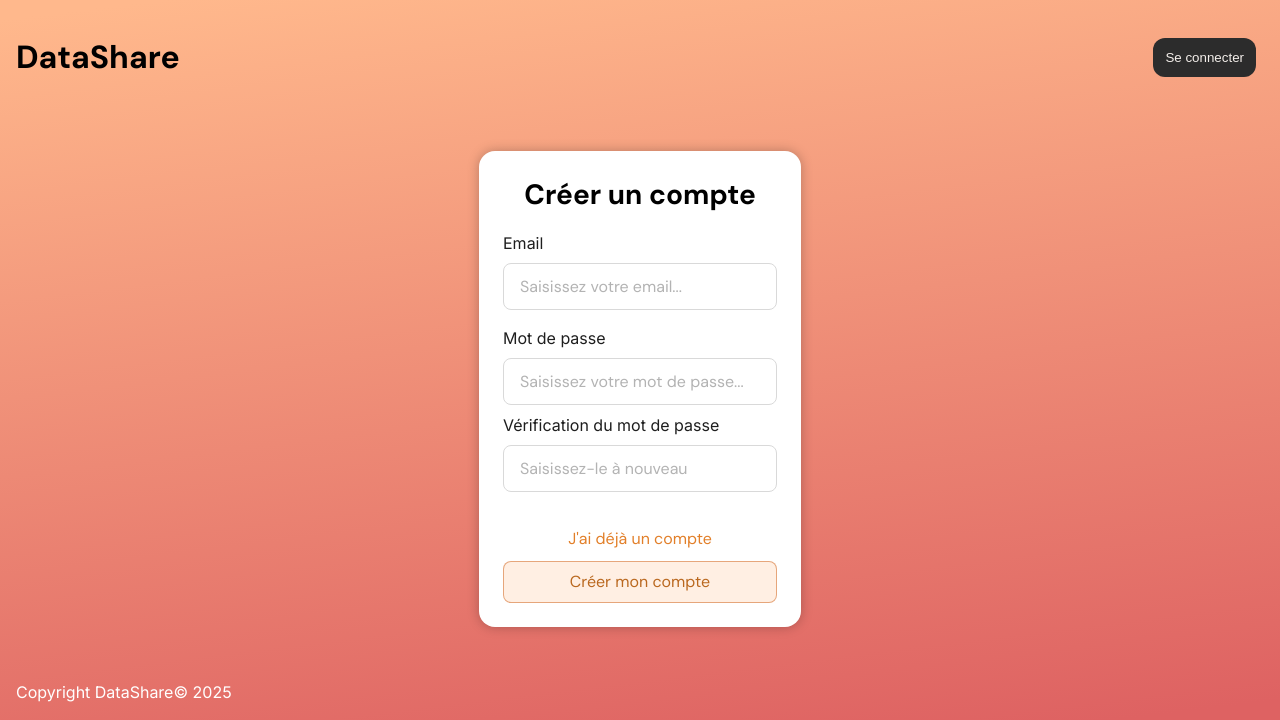
Register tests › Register new user with wrong datas should display an error
The image size is (1280, 720).
Step 1. Type "bad-email" into the field with test id "register-input-email" → (640,287), box [503, 263, 777, 310]
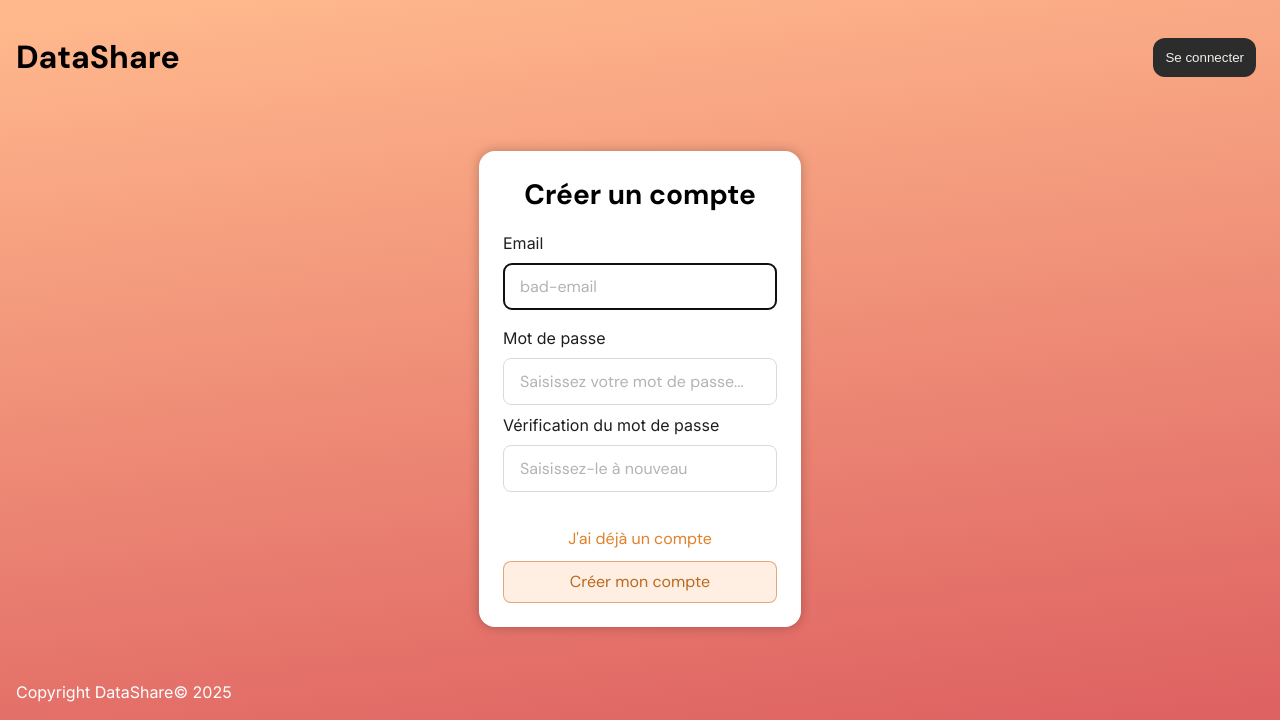
Step 2. Type "short" into the password field with test id "register-input-password" → (640,382), box [503, 358, 777, 405]
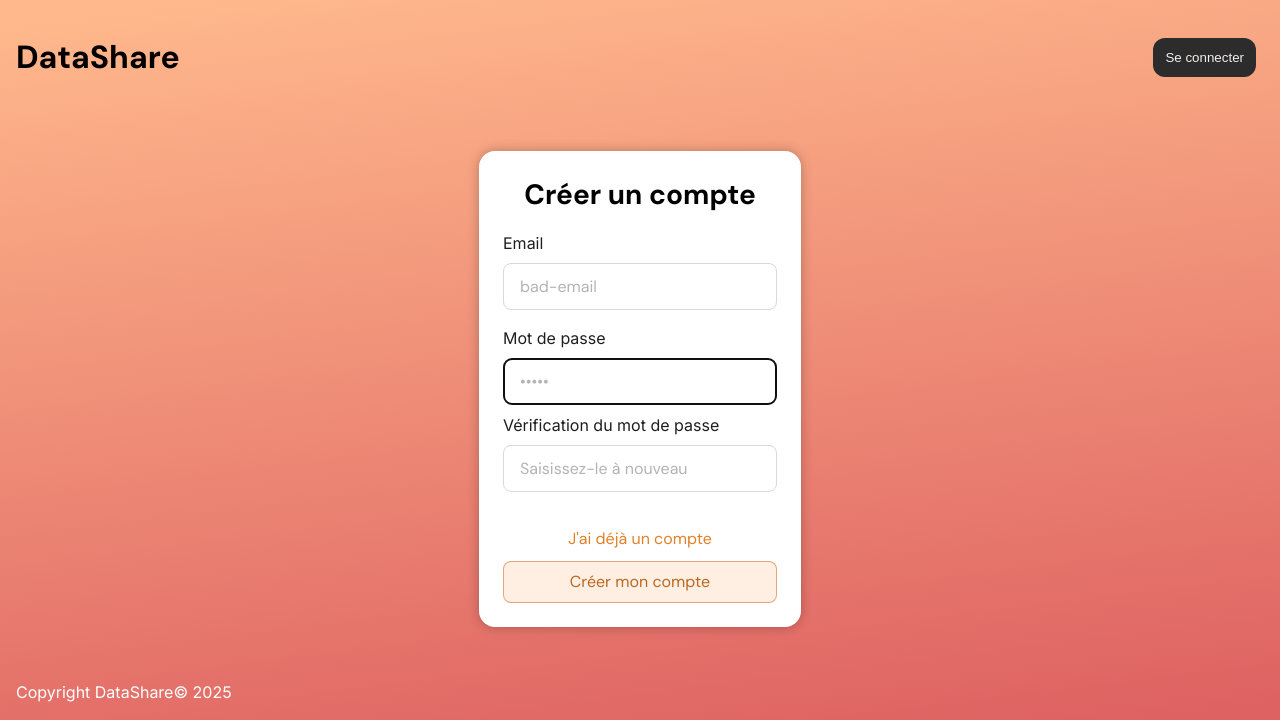
Step 3. Type "different" into the password field with test id "register-input-confirmPassword" → (640,469), box [503, 445, 777, 492]
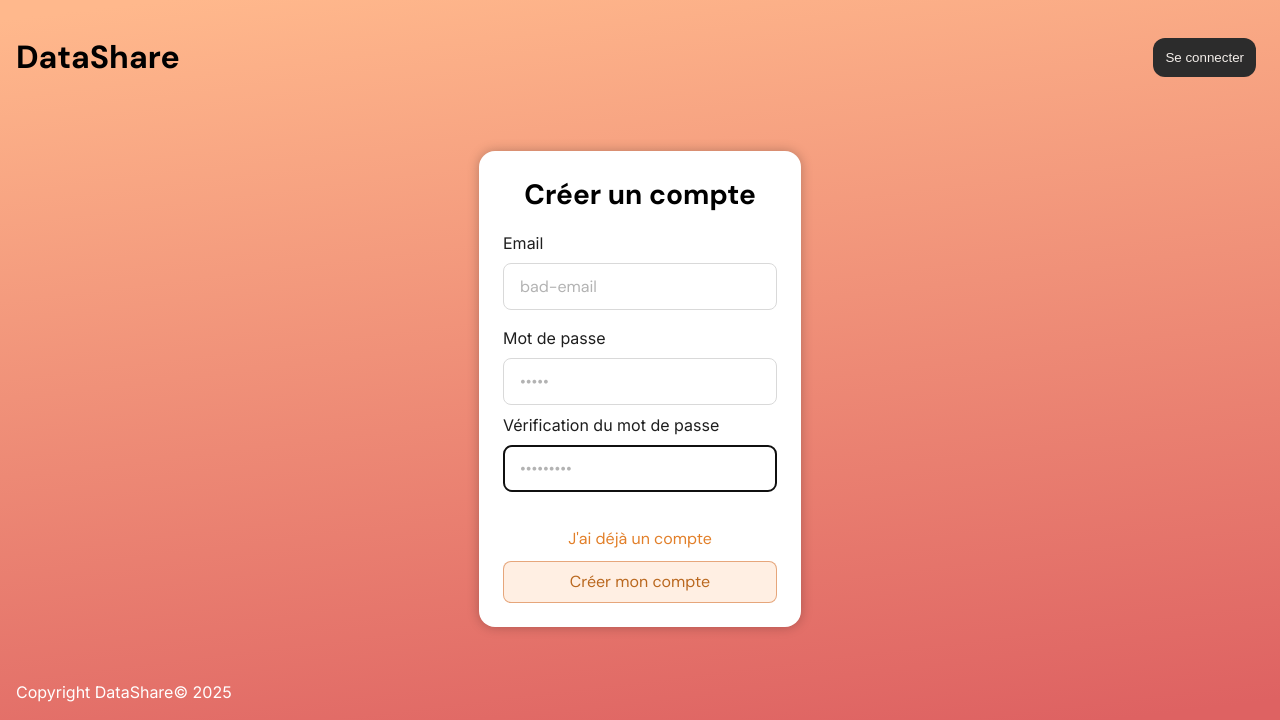
Step 4. Click the button with test id "register-button-submit" → (640,582), box [503, 561, 777, 603]
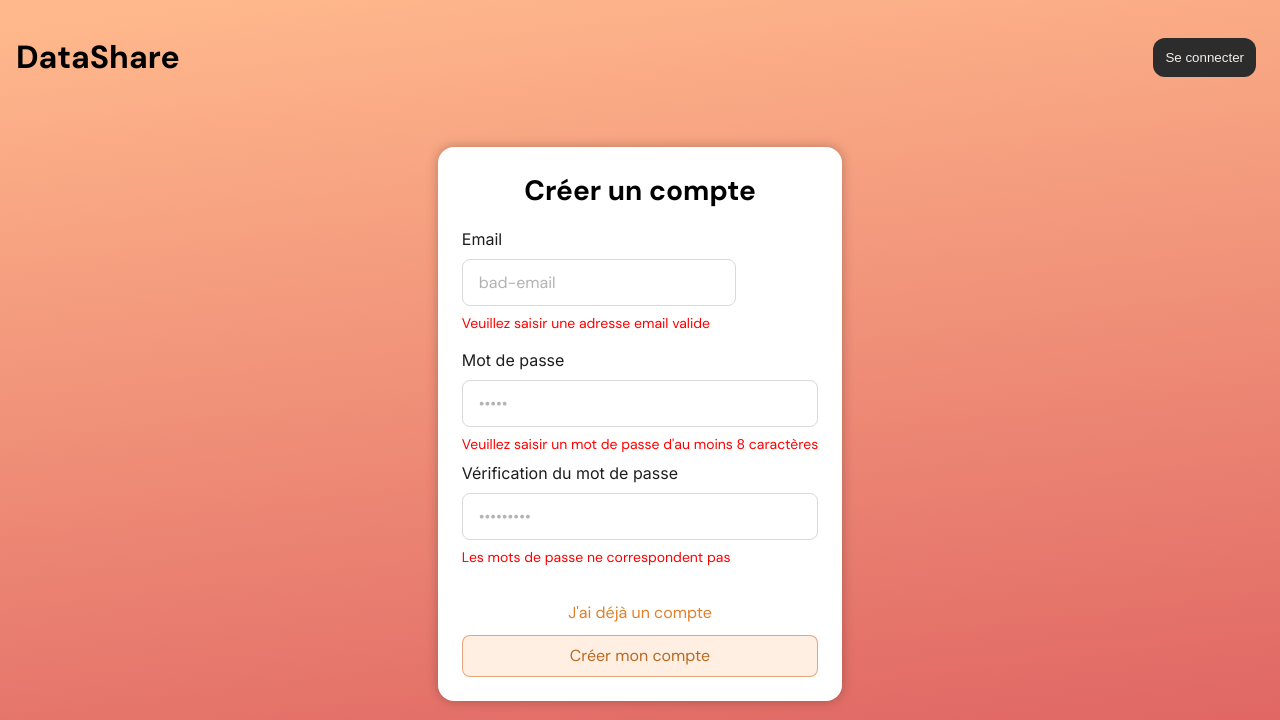
Check: the element with test id "invalid-feedback-email" reads "Veuillez saisir une adresse email valide", box [462, 314, 710, 332]
Check: the element with test id "invalid-feedback-password" reads "Veuillez saisir un mot de passe d'au moins 8 caractères", box [462, 435, 818, 453]
Check: the element with test id "invalid-feedback-passwordMismatch" reads "Les mots de passe ne correspondent pas", box [462, 548, 731, 566]
